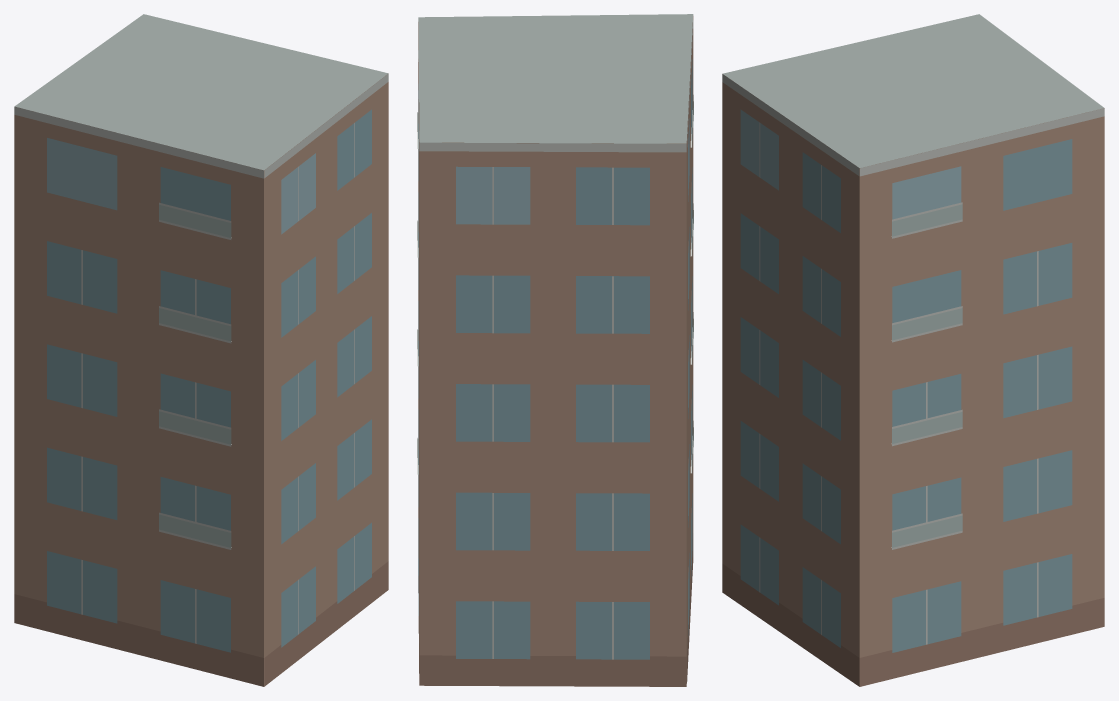
File: survey-upis-33043750.glb
3 renders of one model, left to right at view 1: azimuth 30°, elevation 25°; view 2: azimuth 150°, elevation 25°; view 3: azimuth 270°, elevation 25°, orthographic. The views are drawn at different scales.
Visible parts, largest first — view 1: survey-upis-33043750.tmp; view 2: survey-upis-33043750.tmp; view 3: survey-upis-33043750.tmp.
Boxes of the visible parts, left/top/right/bottom form: survey-upis-33043750.tmp: left=14, top=14, right=388, bottom=686; survey-upis-33043750.tmp: left=417, top=14, right=693, bottom=686; survey-upis-33043750.tmp: left=722, top=14, right=1104, bottom=686.
Size of the model in its own units: 9.73 by 15.25 by 10.2.
